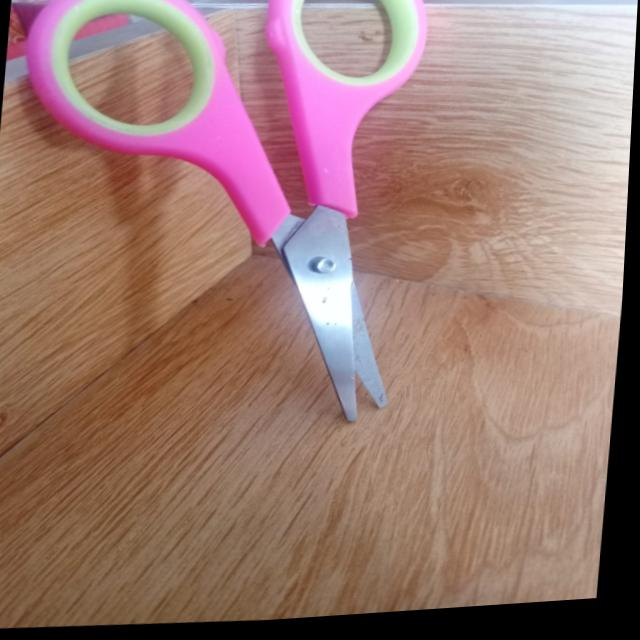scissor: (0, 0, 494, 455)
